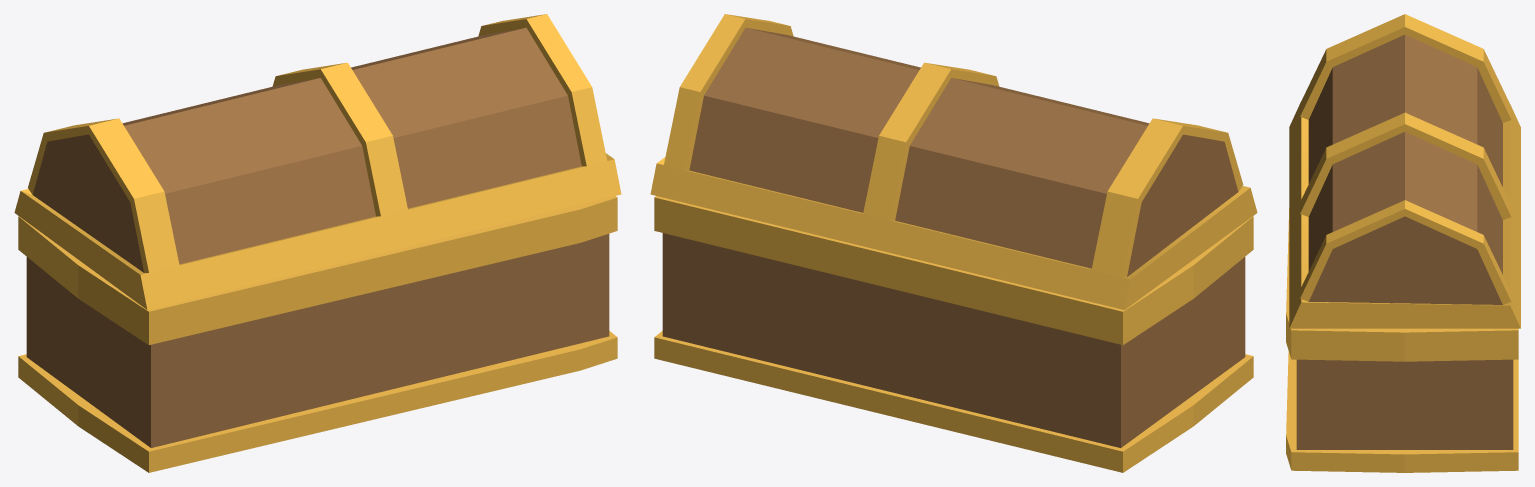
File: TreasuerChest_Closed.fbx
3 renders of one model, left to right at view 1: azimuth 30°, elevation 25°; view 2: azimuth 150°, elevation 25°; view 3: azimuth 270°, elevation 25°, orthographic. The views are drawn at different scales.
Parts seen in each view (by area): view 1: TreasureChest_Top1, TreasureChest_Bottom1; view 2: TreasureChest_Top1, TreasureChest_Bottom1; view 3: TreasureChest_Top1, TreasureChest_Bottom1.
Boxes of the visible parts, left/top/right/bottom form: TreasureChest_Top1: left=14, top=14, right=621, bottom=309; TreasureChest_Bottom1: left=18, top=196, right=617, bottom=472; TreasureChest_Top1: left=650, top=14, right=1257, bottom=309; TreasureChest_Bottom1: left=654, top=196, right=1253, bottom=472; TreasureChest_Top1: left=1289, top=14, right=1520, bottom=328; TreasureChest_Bottom1: left=1286, top=208, right=1518, bottom=472.
Size of the model in its own units: 128 by 76.38 by 62.57.
